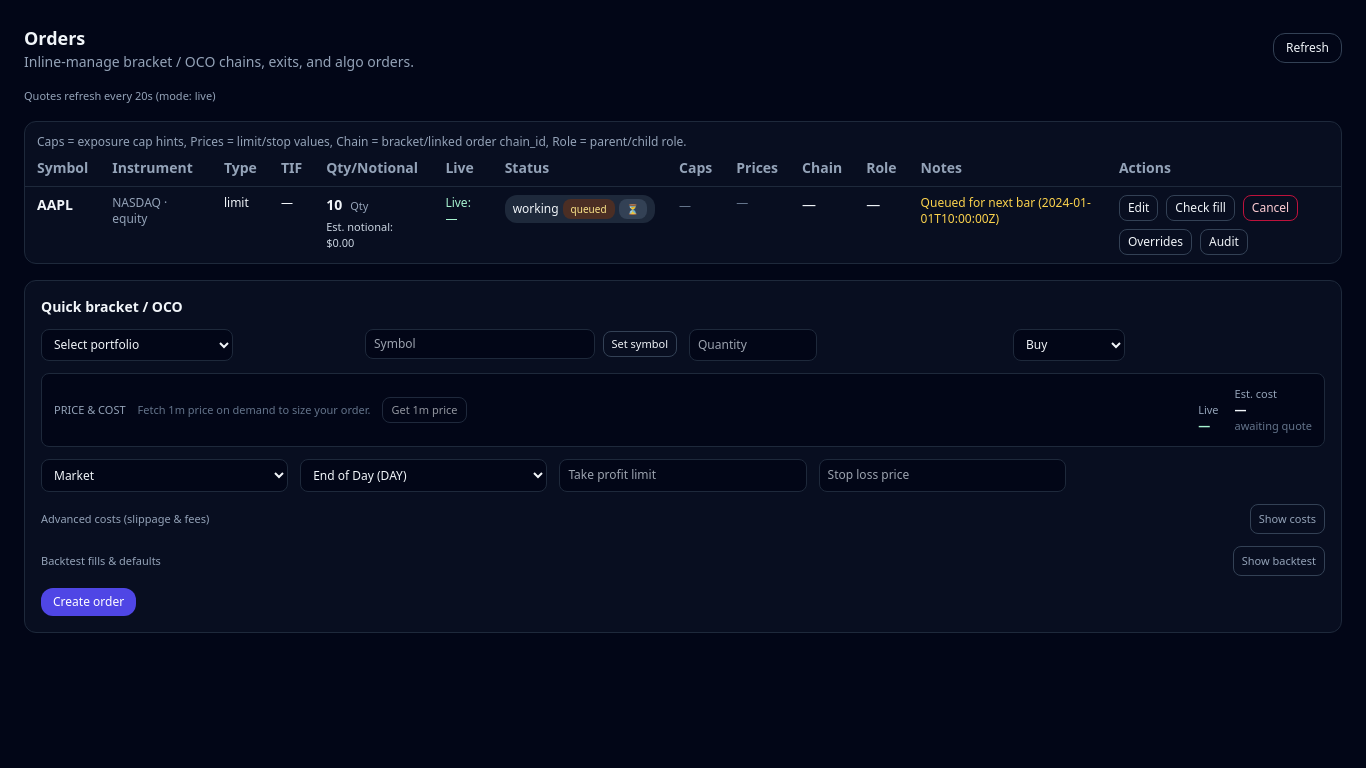
Test case: Orders page › falls back to symbol interval endpoint price when quotes are empty
expect the text "AAPL" is shown: met, box [25, 186, 100, 262]
Type "AAPL" into the field with placeholder "Symbol" at (480, 344), box [365, 328, 594, 358]
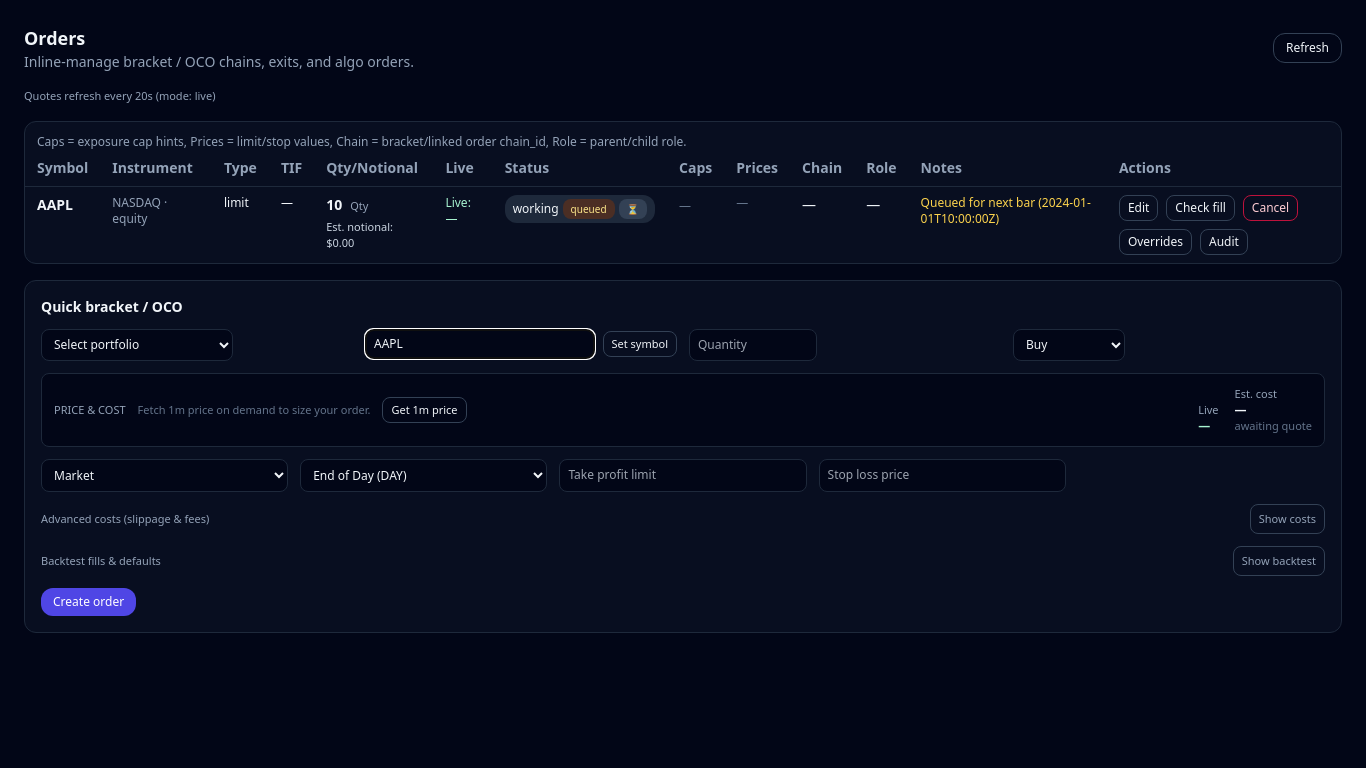
Click the button "Set symbol" at (640, 344), box [602, 330, 677, 356]
(page scrolled)
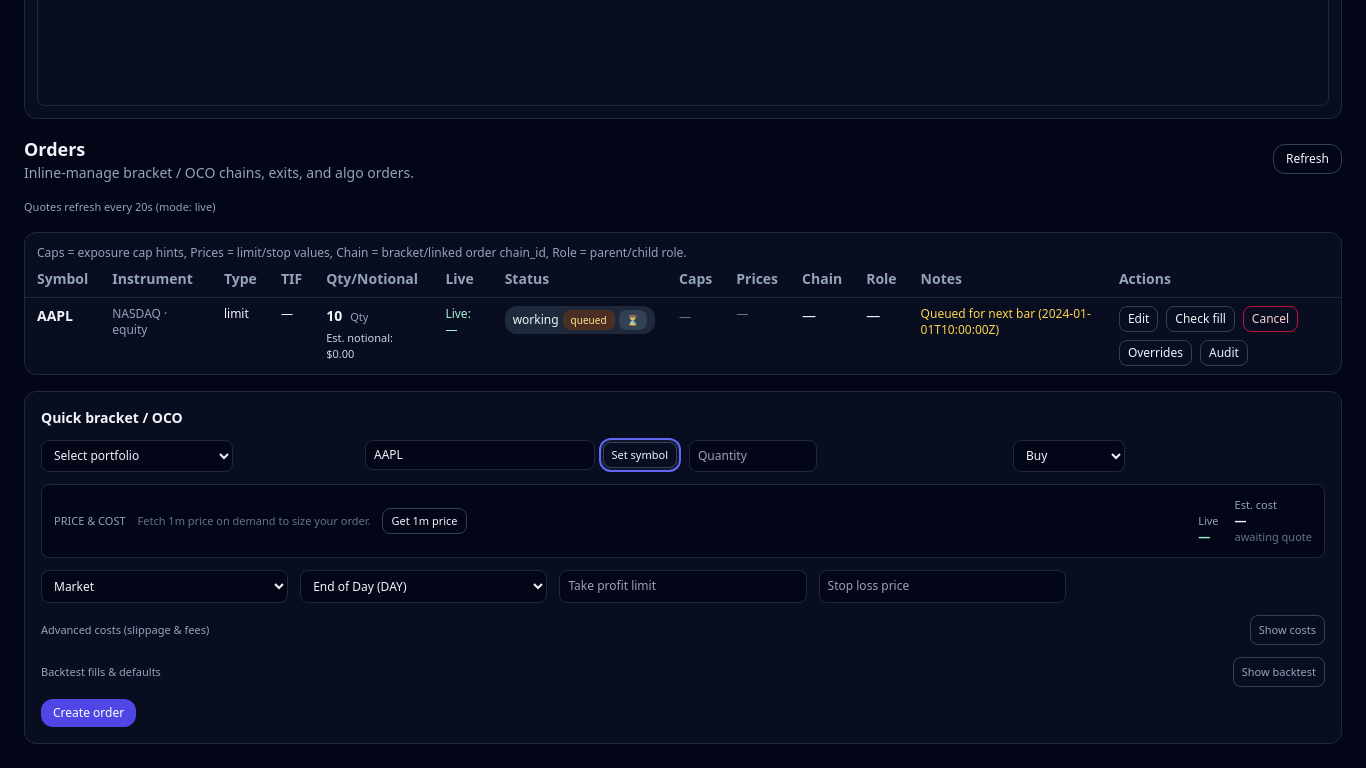
Click the button "Get 1m price" at (424, 520), box [382, 508, 466, 534]
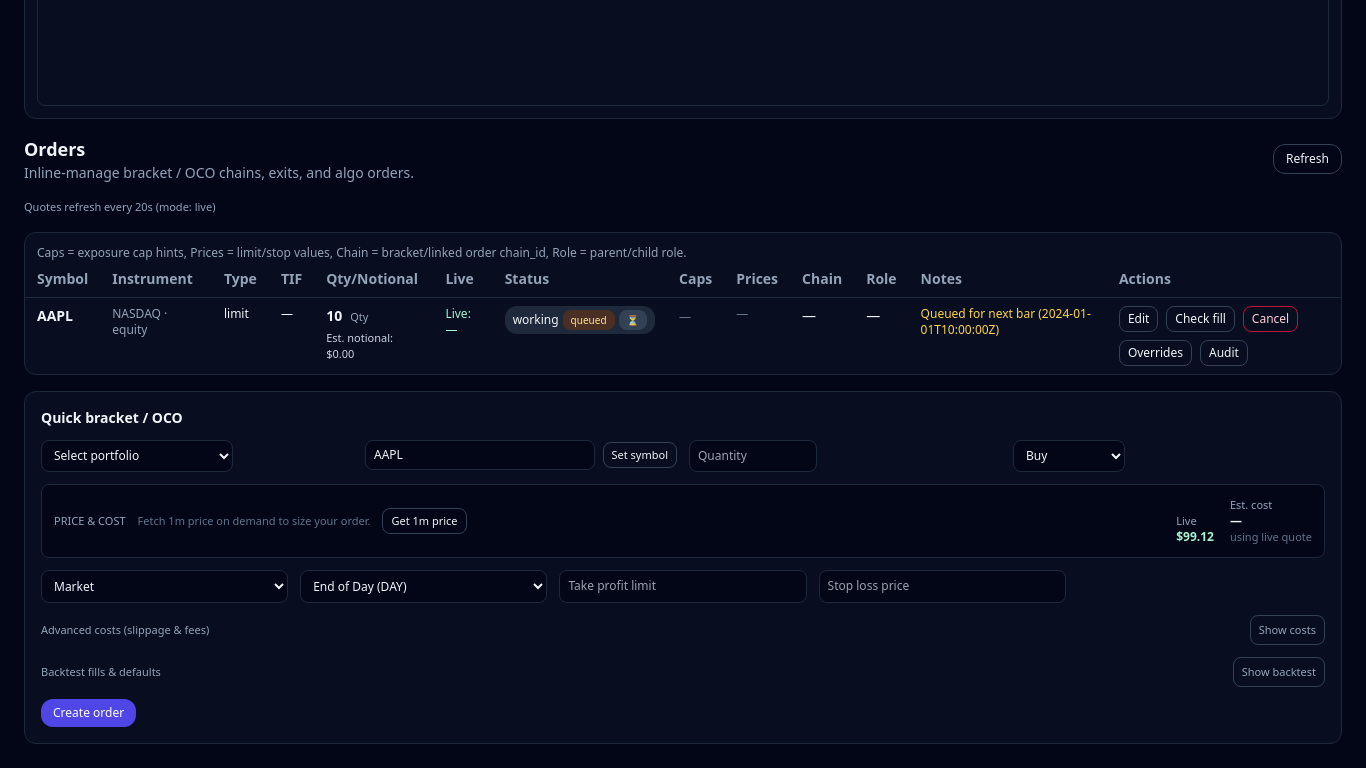
expect the text "$99.12" is shown: met, box [1176, 528, 1214, 544]
